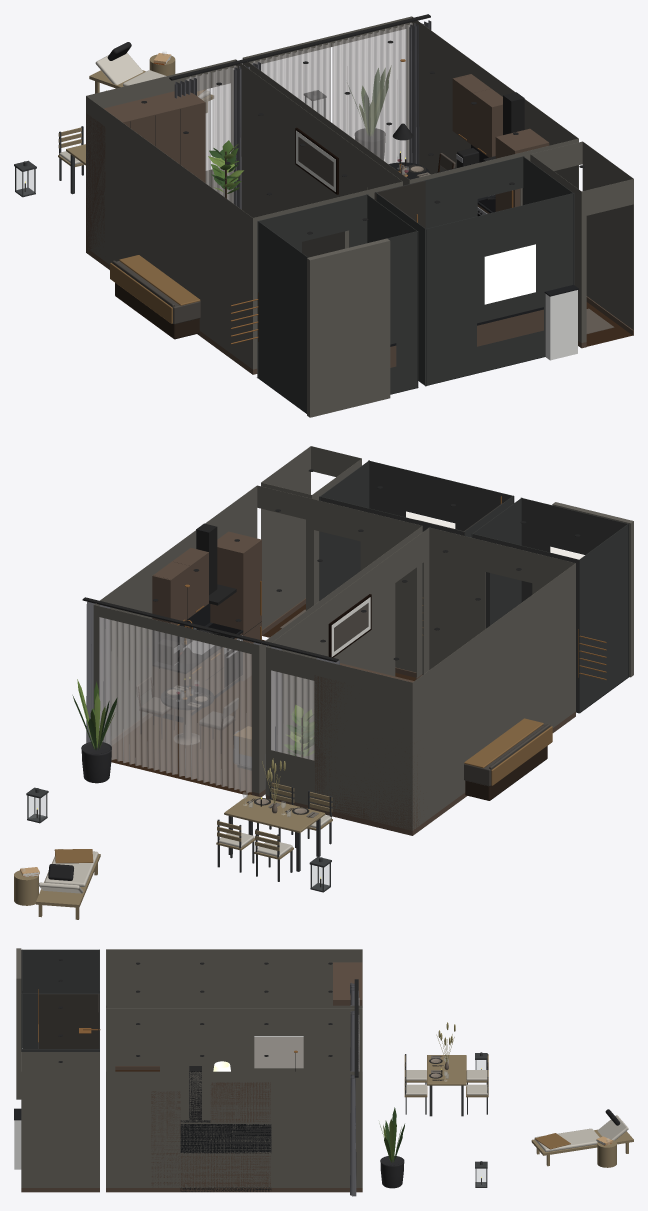
The model's file is unit-0.A-noir.glb.
3 renders of one model, top to bottom at view 1: azimuth 30°, elevation 25°; view 2: azimuth 150°, elevation 25°; view 3: azimuth 270°, elevation 25°, orthographic. The views are drawn at different scales.
Visible parts, largest first — view 1: int-wall, int-bathWall, int-sheer, int-joineryTall, int-joinery, int-curtain, int-matteBlack, int-ledStrip, int-bedThrow, int-whiteGloss, int-teak, int-outCushion (+9 smaller); view 2: int-wall, int-bathWall, int-sheer, int-joineryTall, int-floor, int-teak, int-joinery, int-matteBlack, int-curtain, int-outdoor, int-bedThrow, int-skirting (+11 smaller); view 3: int-wall, int-bathWall, int-joinery, int-showerWall, int-joineryTall, int-splash, int-teak, int-outCushion, int-skirting, int-matteBlack, int-art:0:1, int-curtain (+3 smaller).
Boxes of the visible parts, x1=… form: int-wall: x1=86, y1=16, x2=633, y2=417; int-bathWall: x1=257, y1=156, x2=574, y2=412; int-sheer: x1=186, y1=23, x2=412, y2=203; int-joineryTall: x1=86, y1=91, x2=549, y2=367; int-joinery: x1=452, y1=74, x2=502, y2=213; int-curtain: x1=174, y1=20, x2=431, y2=209; int-matteBlack: x1=169, y1=14, x2=524, y2=199; int-ledStrip: x1=484, y1=244, x2=535, y2=304; int-bedThrow: x1=110, y1=255, x2=200, y2=323; int-whiteGloss: x1=545, y1=290, x2=577, y2=360; int-teak: x1=58, y1=54, x2=213, y2=166; int-outCushion: x1=59, y1=53, x2=209, y2=164; int-wall: x1=93, y1=446, x2=633, y2=830; int-bathWall: x1=319, y1=460, x2=629, y2=713; int-sheer: x1=99, y1=617, x2=314, y2=792; int-joineryTall: x1=210, y1=531, x2=423, y2=834; int-floor: x1=111, y1=639, x2=415, y2=795; int-teak: x1=14, y1=782, x2=332, y2=919; int-joinery: x1=152, y1=548, x2=241, y2=717; int-matteBlack: x1=82, y1=523, x2=338, y2=722; int-curtain: x1=86, y1=601, x2=339, y2=795; int-outdoor: x1=26, y1=781, x2=331, y2=892; int-bedThrow: x1=464, y1=718, x2=552, y2=785; int-skirting: x1=111, y1=598, x2=575, y2=835; int-wall: x1=16, y1=948, x2=362, y2=1187; int-bathWall: x1=21, y1=949, x2=99, y2=1051; int-joinery: x1=181, y1=1082, x2=270, y2=1187; int-showerWall: x1=38, y1=994, x2=99, y2=1048; int-joineryTall: x1=151, y1=962, x2=362, y2=1192; int-splash: x1=180, y1=1124, x2=271, y2=1151; int-teak: x1=404, y1=1055, x2=633, y2=1167; int-outCushion: x1=405, y1=1070, x2=628, y2=1152; int-skirting: x1=21, y1=1066, x2=362, y2=1192; int-matteBlack: x1=180, y1=979, x2=358, y2=1191; int-art:0:1: x1=254, y1=1037, x2=303, y2=1068; int-curtain: x1=350, y1=982, x2=356, y2=1196.
Bounding box in the file's own units: 6.62 × 2.92 × 12.54.
